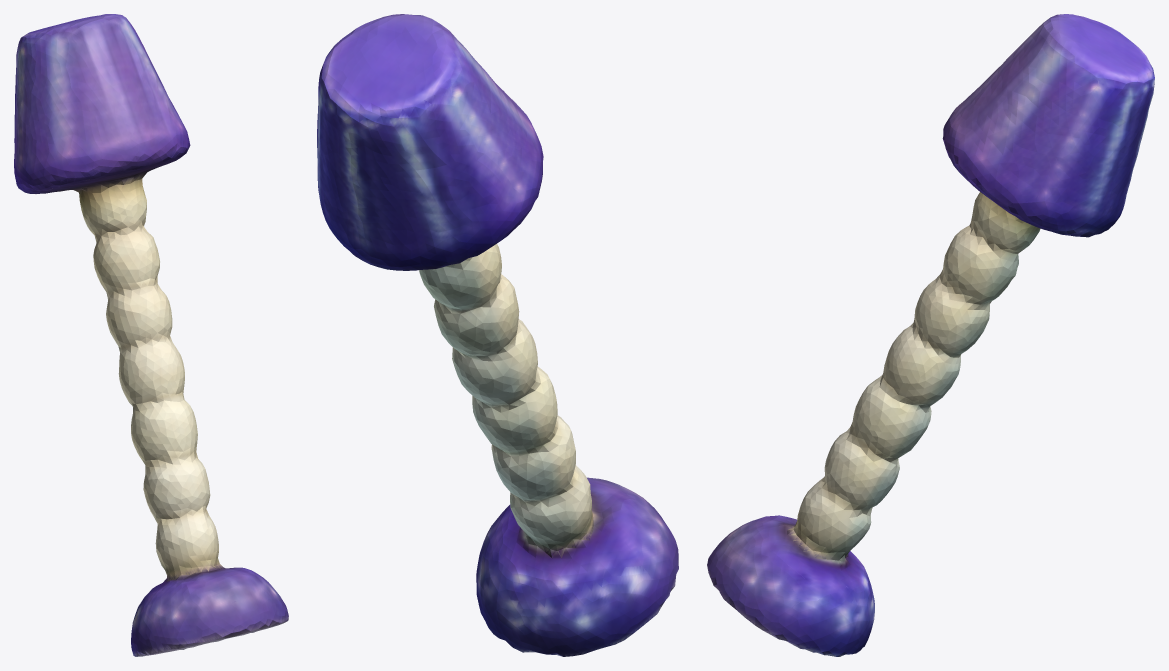
3 renders of one model, left to right at view 1: azimuth 30°, elevation 25°; view 2: azimuth 150°, elevation 25°; view 3: azimuth 270°, elevation 25°, orthographic. The views are drawn at different scales.
Parts seen in each view (by area): view 1: world; view 2: world; view 3: world.
Part boxes in pixels (bbox=[...]): world: bbox=[14, 14, 288, 656]; world: bbox=[317, 14, 678, 656]; world: bbox=[707, 14, 1154, 656].
Size of the model in its own units: 0.284 by 0.9752 by 0.6384.
Materials: 1 (1 with a texture image).
